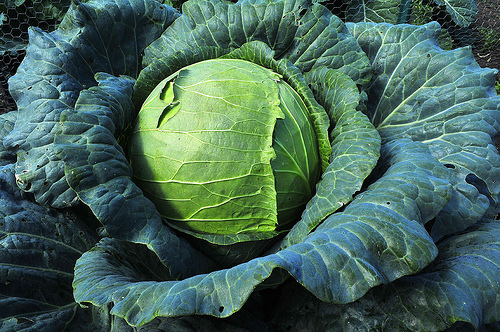cabbage: (0, 0, 498, 330)
